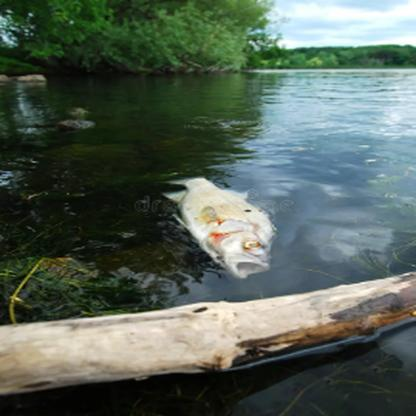deceased fish: (162, 161, 277, 279)
